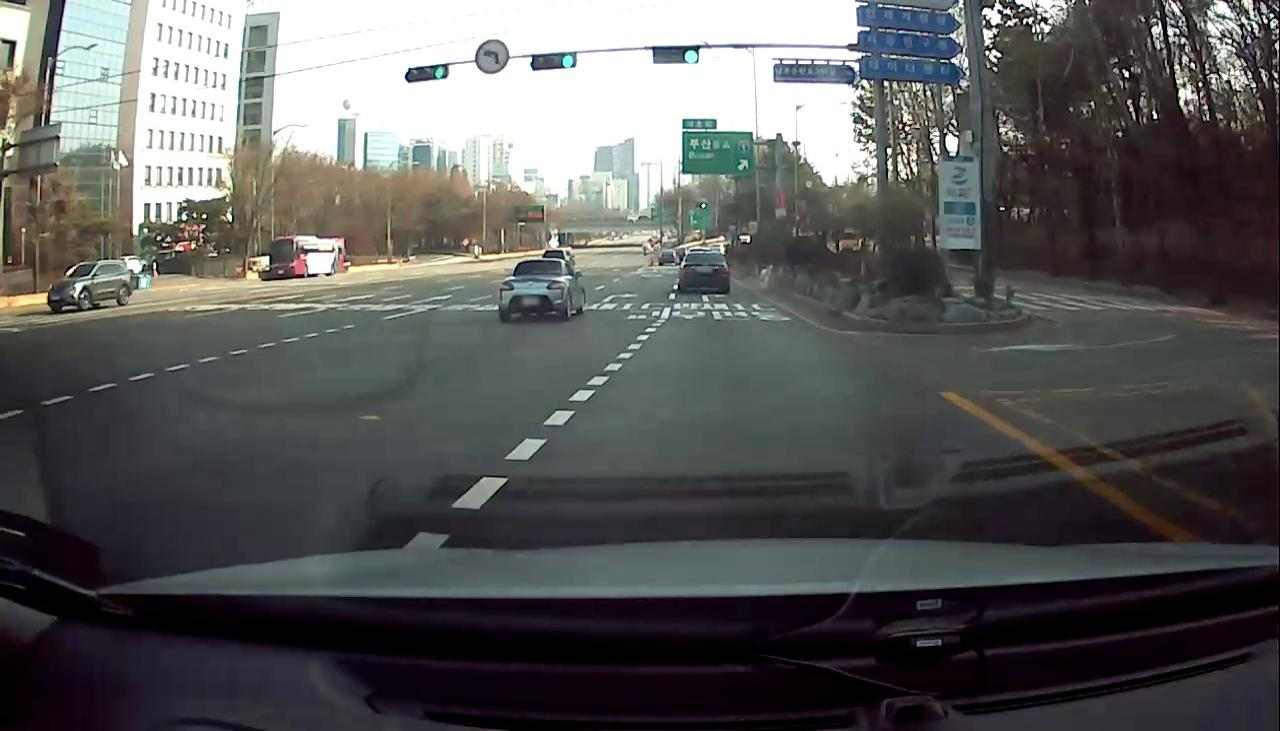Green Light: (682, 48, 700, 65), (562, 52, 576, 69), (433, 64, 447, 80)
